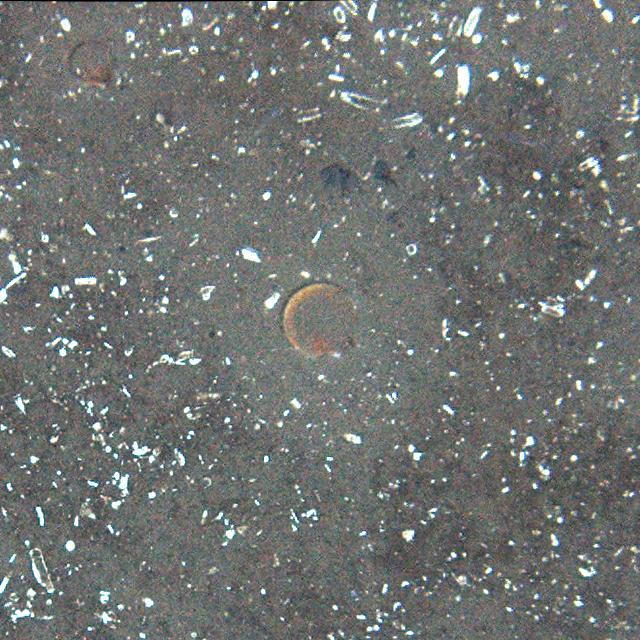scallop: (278, 277, 363, 365), (69, 41, 120, 87)
